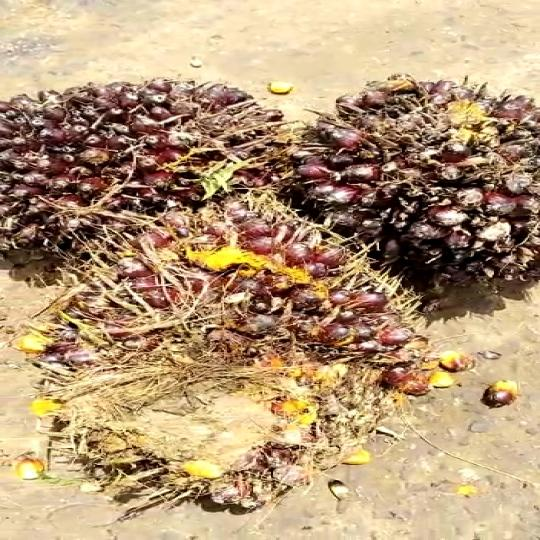kurang masak: (0, 202, 393, 525), (0, 62, 279, 314), (265, 60, 540, 315)
